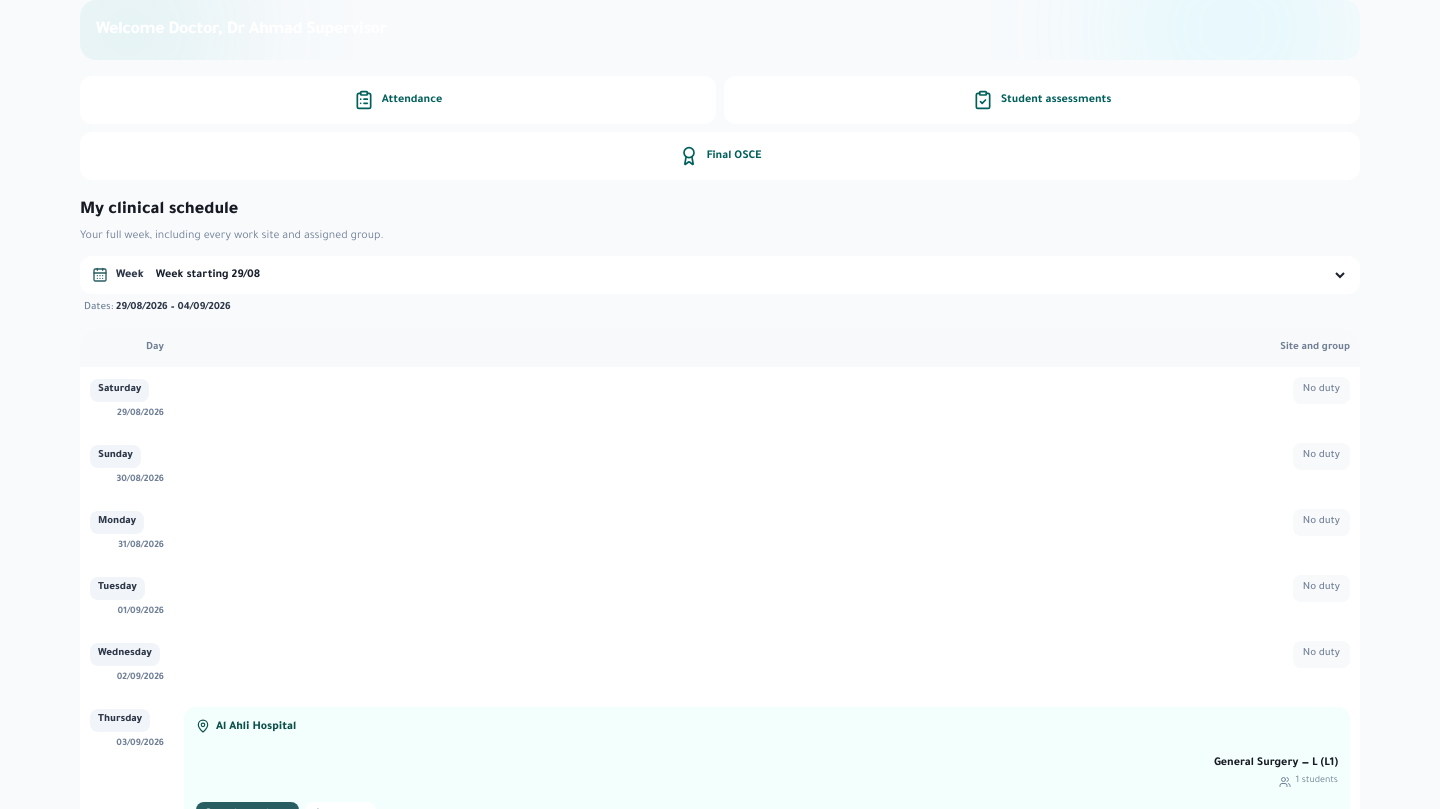
Test: clinical supervisor workspace › shows one selected week in the phone table and lets the supervisor change weeks
The width and height of the screenshot is (1440, 809).
Select "Week starting 22/08" in the dropdown named "Choose week" at point(750, 275), box left=152, top=264, right=1348, bottom=286
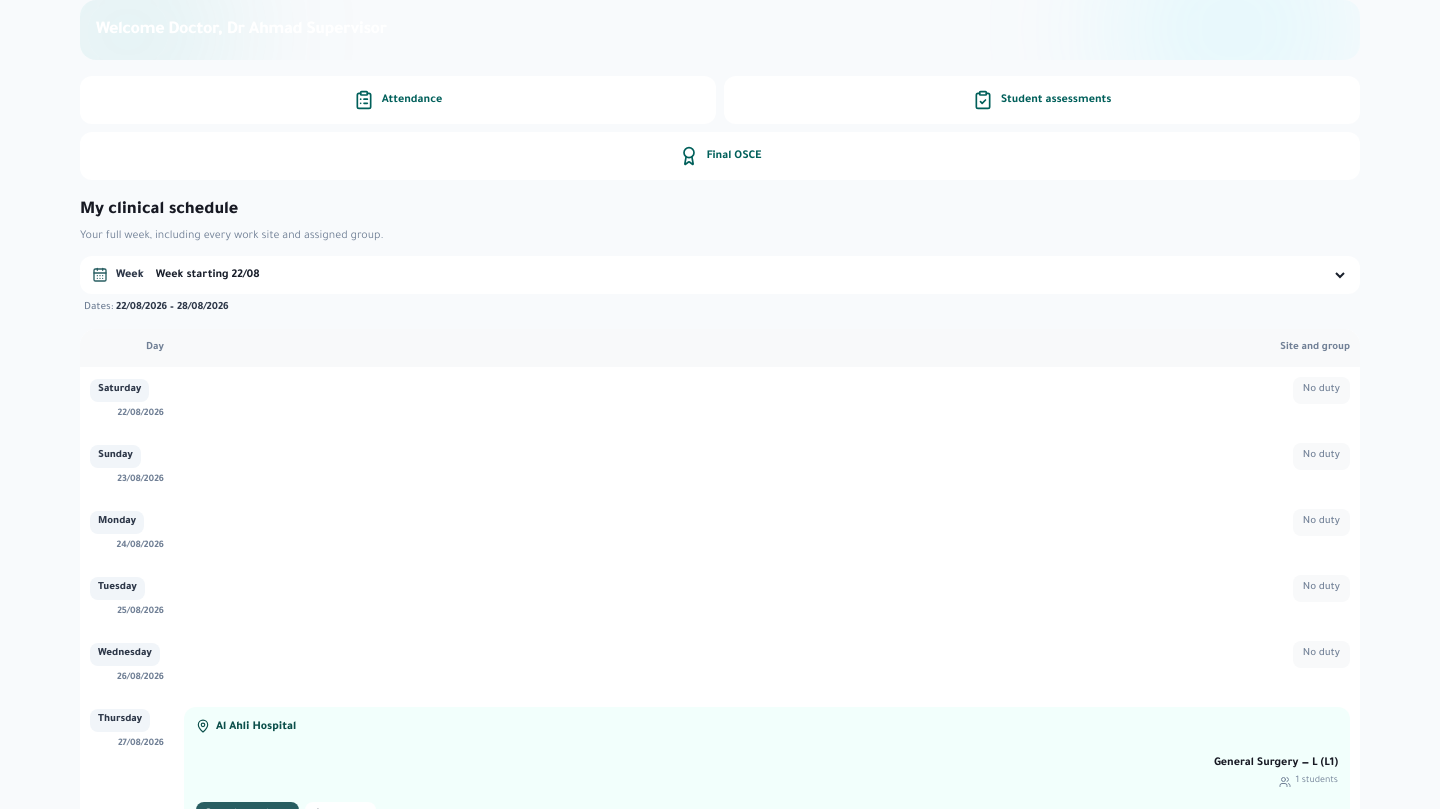
Expected: the text "22/08/2026 – 28/08/2026" is shown, left=116, top=300, right=229, bottom=316
Expected: the text "27/08/2026" is shown, left=118, top=739, right=164, bottom=749
